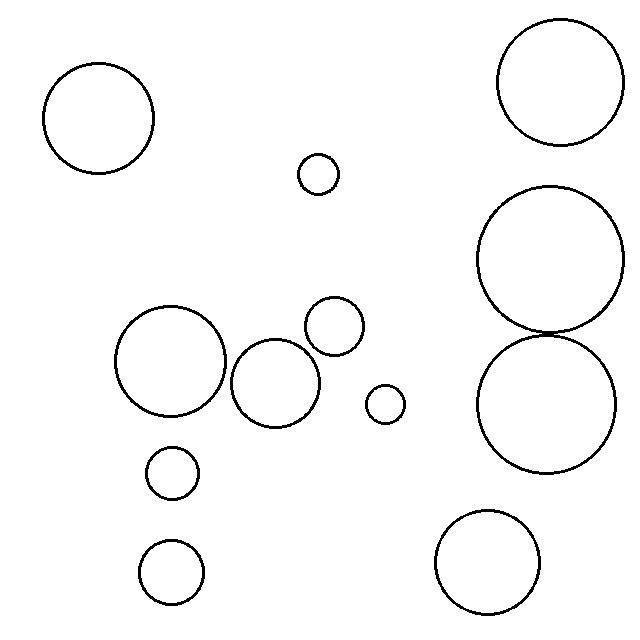circle: (475, 182, 625, 335), (476, 335, 619, 477), (496, 16, 625, 148), (41, 60, 159, 178), (113, 303, 228, 418), (432, 507, 543, 617), (229, 335, 323, 431), (138, 537, 207, 608), (303, 293, 367, 359), (143, 444, 203, 504), (296, 150, 343, 198), (364, 381, 408, 426)
